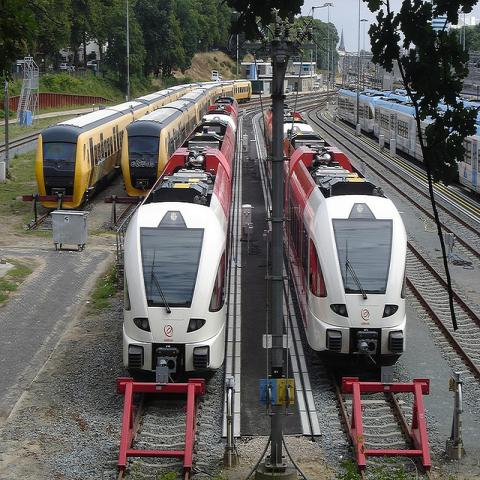car: (60, 63, 69, 71), (314, 82, 321, 91), (86, 61, 92, 67)
